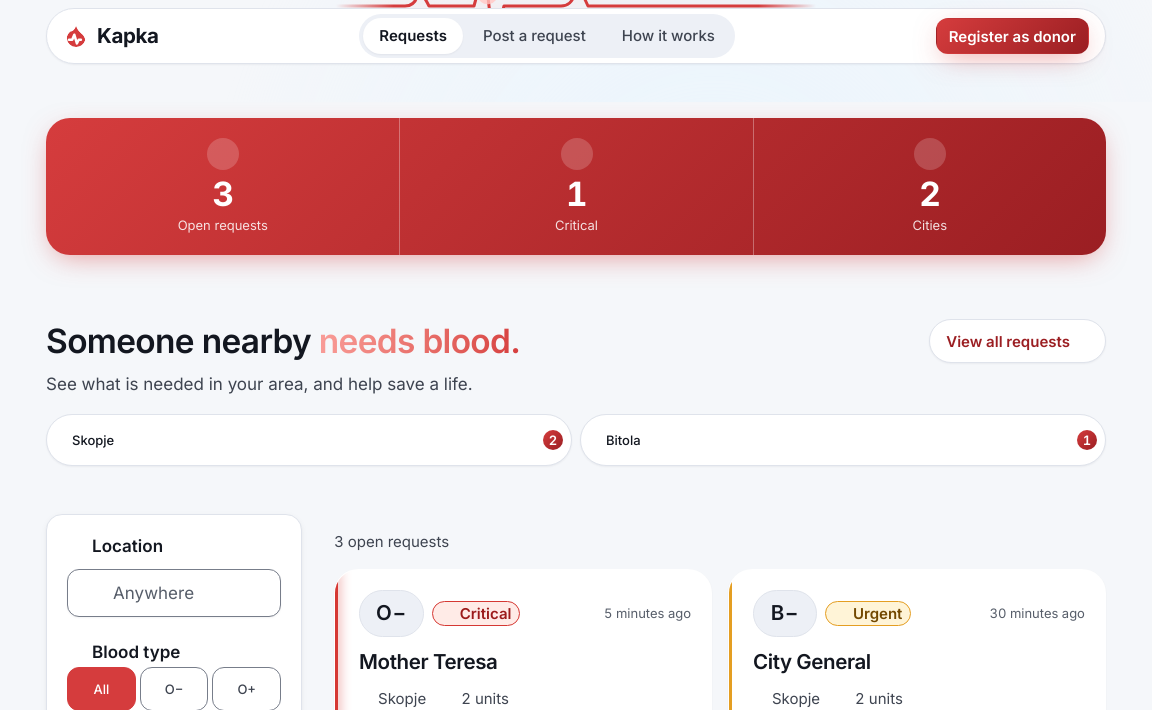
Test: the public feed › filters the list to the city that was pressed
(page scrolled)
expect the text "3 open requests" is shown: met, box top-left (334, 532), bottom-right (449, 551)
Click the button "Bitola 1" at (623, 440), box top-left (580, 414), bottom-right (1106, 466)
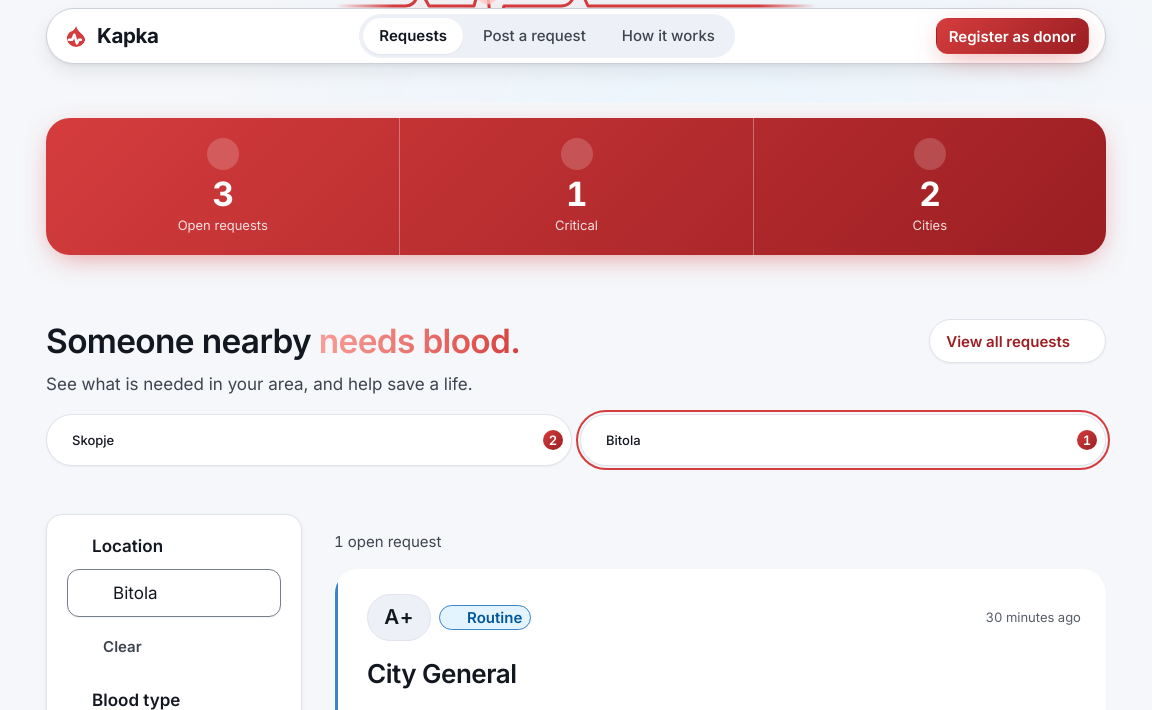
expect the text "1 open request" is shown: met, box top-left (334, 532), bottom-right (441, 551)
